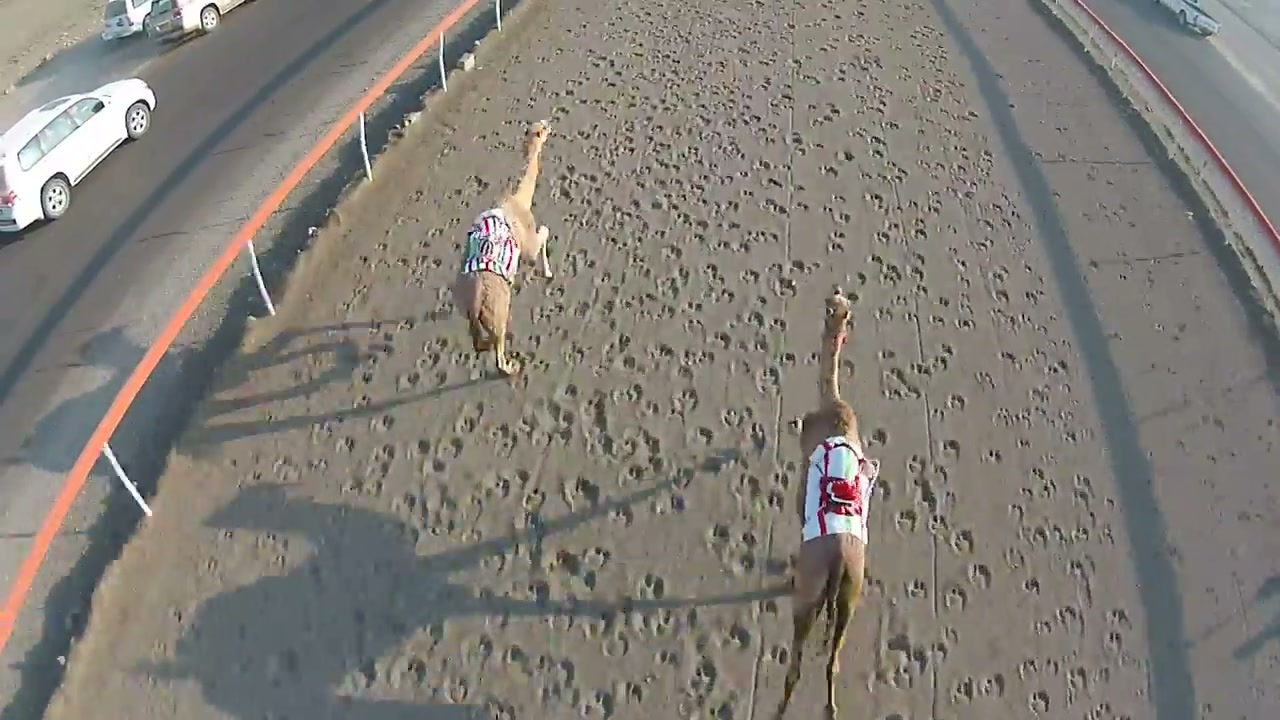animal_footprint: (417, 4, 835, 706), (808, 18, 1011, 693)
